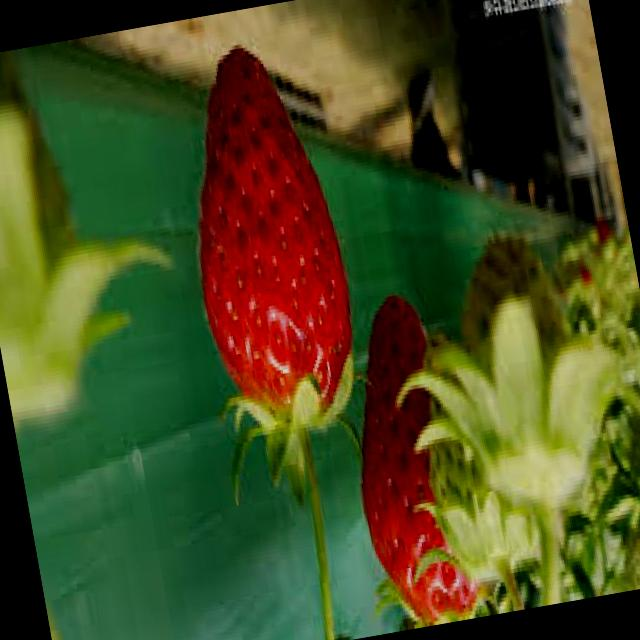Strawberry: (160, 38, 370, 435), (329, 284, 494, 629), (446, 228, 596, 499), (408, 329, 548, 585), (616, 387, 640, 503), (615, 516, 640, 591)
